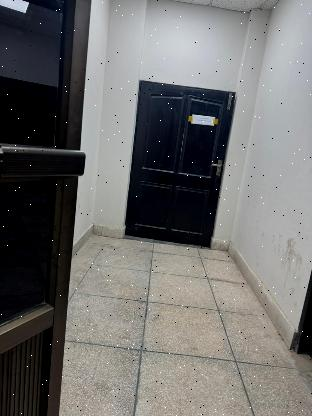door: (124, 72, 240, 254)
